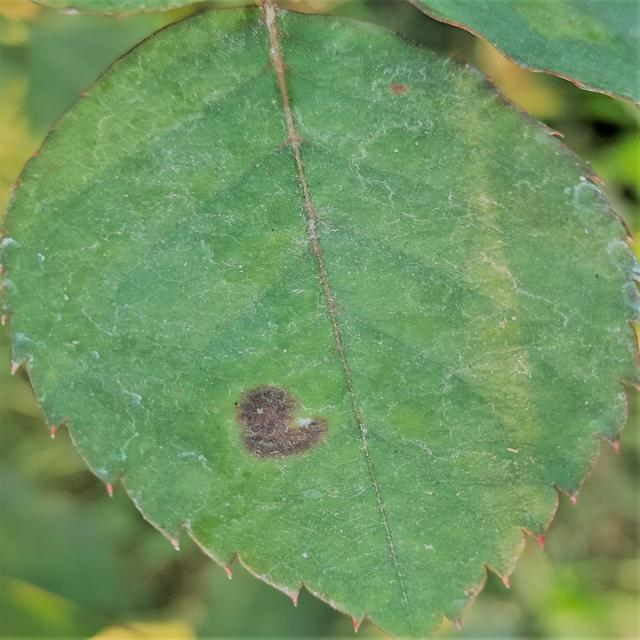Black_spot: (231, 382, 329, 462)
Rose: (1, 1, 638, 636)
